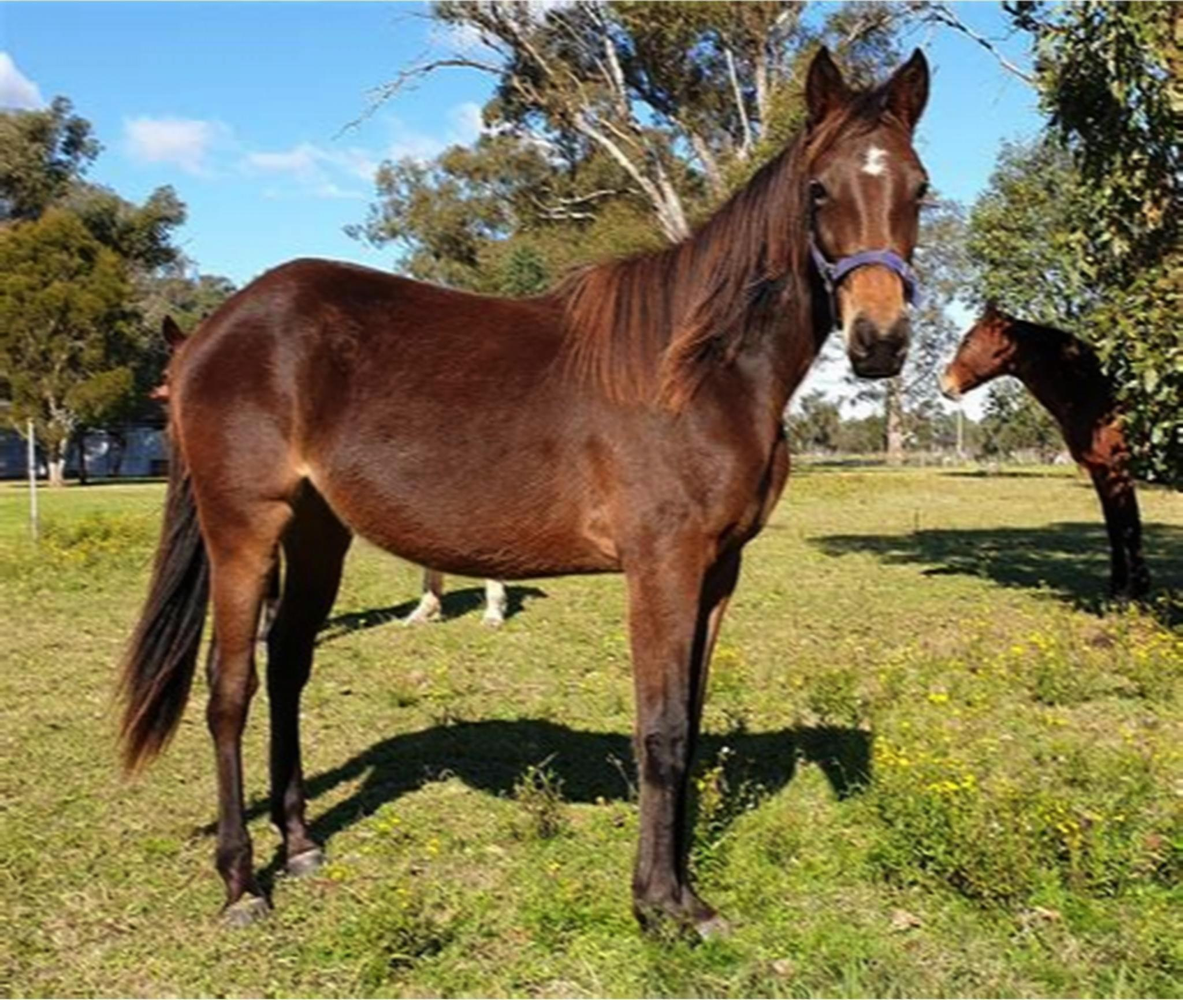horse: (96, 37, 941, 954)
